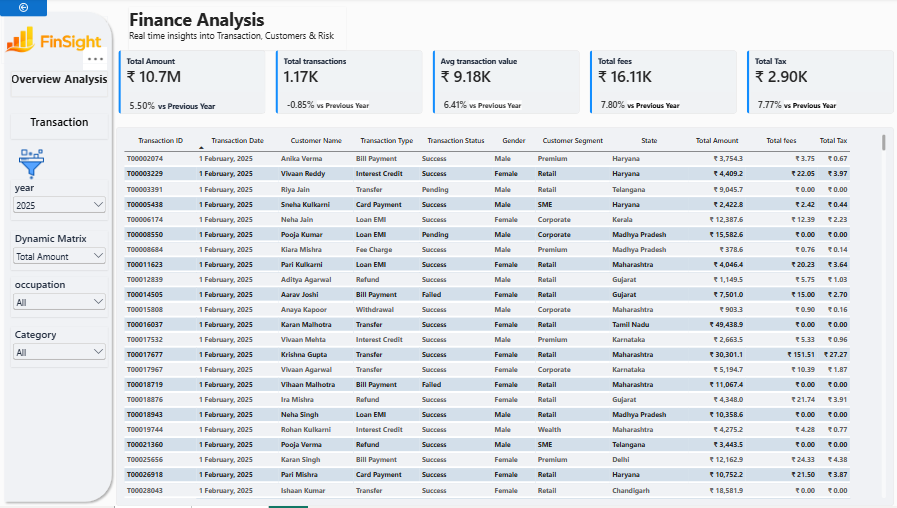

The dashboard page shown, as its layout file describes it:
{"tool":"powerbi","page":{"name":"Page 2","canvas":[1920,1080],"ordinal":1},"visuals":[{"type":"shape","box":[0,19.1,246.6,1060.9],"z":0},{"type":"textbox","box":[274.3,19.1,461.3,91.4],"z":1000},{"type":"tableEx","fields":{"Values":["finance_transactions.transaction_id","finance_transactions.transaction_date","customers .customer name","finance_transactions.transaction_type","finance_transactions.transaction_status","customers .gender","customers .customer_segment","customers .state","finance_transactions.Total Amount","finance_transactions.Total fees","finance_transactions.Total Tax"]},"box":[246.6,274.3,1654,805.7],"z":3000},{"type":"actionButton","box":[0,0,100,40],"z":4000},{"type":"slicer","fields":{"Values":["calender table.year"]},"box":[23.4,386.9,206.2,85],"z":4001},{"type":"slicer","fields":{"Values":["Dynamic Matrix.Dynamic Matrix"]},"box":[23.4,495.4,206.2,82.9],"z":4002},{"type":"slicer","fields":{"Values":["customers .occupation"]},"box":[23.4,593.1,206.2,85],"z":4003},{"type":"slicer","fields":{"Values":["finance_transactions.merchant_category"]},"box":[23.4,699.4,206.2,85],"z":4004},{"type":"textbox","box":[23.8,155.5,205.2,54],"z":4005},{"type":"textbox","box":[23.4,246.6,206.2,53.1],"z":4006},{"type":"image","box":[23.8,321.8,86.4,64.8],"z":4007},{"type":"image","box":[2.2,38.9,226.8,101.5],"z":4008},{"type":"cardVisual","fields":{"Data":["finance_transactions.Total Amount","finance_transactions.Total transactions","finance_transactions.Avg transaction value","finance_transactions.Total fees","finance_transactions.Total Tax"]},"box":[250.9,110.6,1650.2,136.1],"z":4009}]}

Visuals, with their boxes on the page's 1920x1080 design canvas (x1, y1, x2, y2). These are canvas units, not pixel positions in the 897x508 screenshot, which may show the page scaled, cropped or inside an application window:
shape: pyautogui.locateOnScreen(0, 19, 247, 1080)
textbox: pyautogui.locateOnScreen(274, 19, 736, 110)
tableEx - finance_transactions.transaction_id x finance_transactions.transaction_date: pyautogui.locateOnScreen(247, 274, 1901, 1080)
actionButton: pyautogui.locateOnScreen(0, 0, 100, 40)
slicer - calender table.year: pyautogui.locateOnScreen(23, 387, 230, 472)
slicer - Dynamic Matrix.Dynamic Matrix: pyautogui.locateOnScreen(23, 495, 230, 578)
slicer - customers .occupation: pyautogui.locateOnScreen(23, 593, 230, 678)
slicer - finance_transactions.merchant_category: pyautogui.locateOnScreen(23, 699, 230, 784)
textbox: pyautogui.locateOnScreen(24, 156, 229, 210)
textbox: pyautogui.locateOnScreen(23, 247, 230, 300)
image: pyautogui.locateOnScreen(24, 322, 110, 387)
image: pyautogui.locateOnScreen(2, 39, 229, 140)
cardVisual - finance_transactions.Total Amount x finance_transactions.Total transactions: pyautogui.locateOnScreen(251, 111, 1901, 247)
